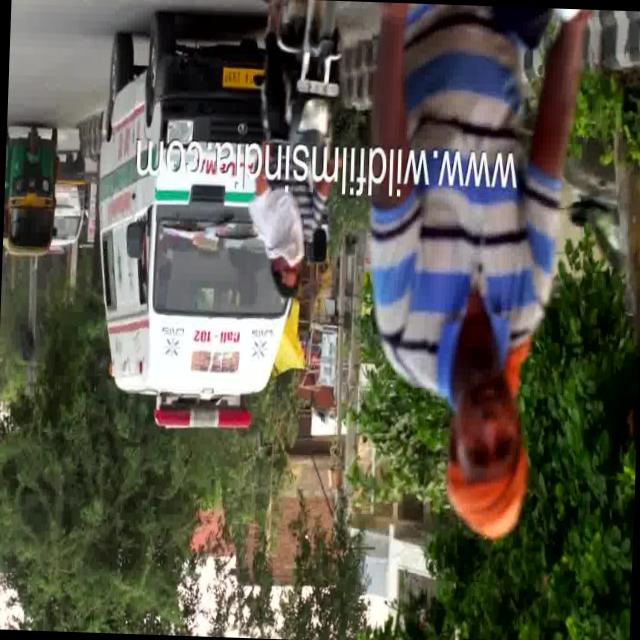ambulance: (100, 276, 304, 440)
